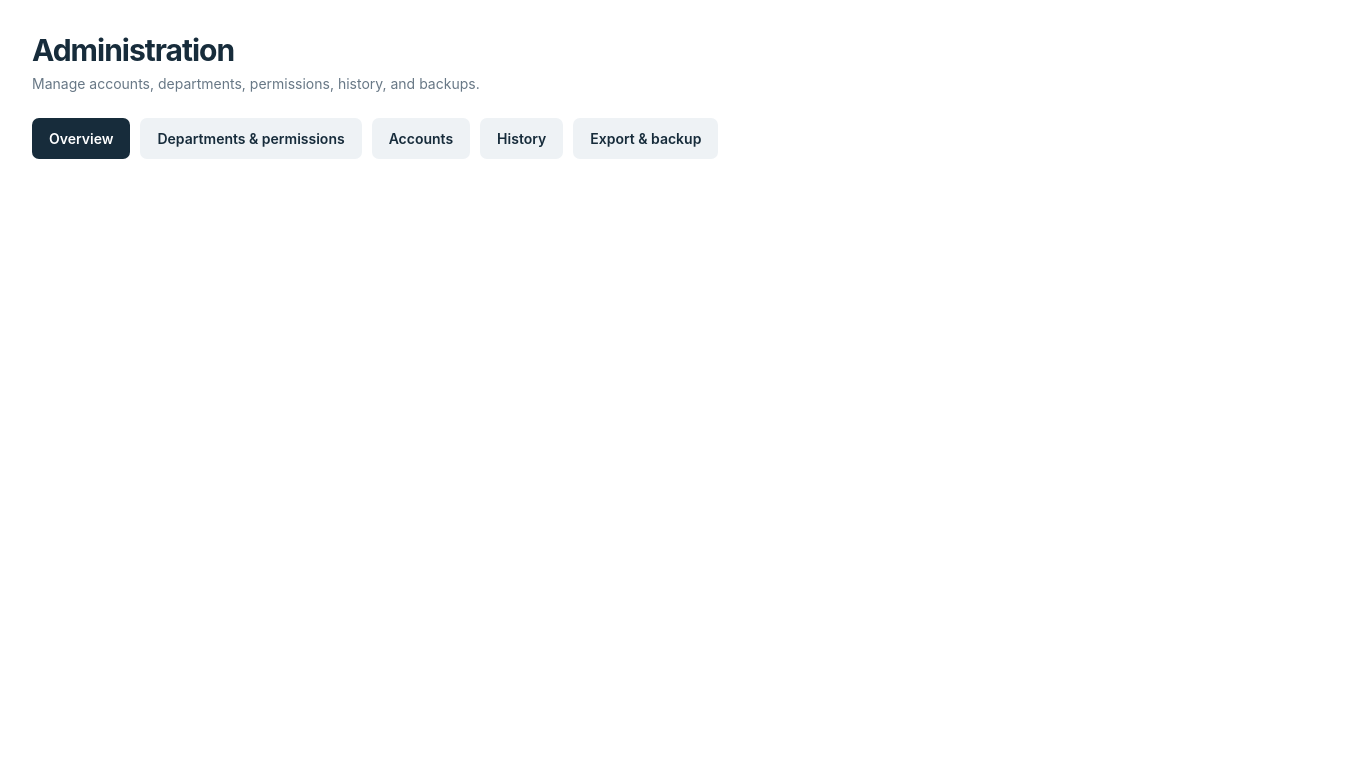
it: admin account form edits roles and disables accounts without requiring a password reset
The width and height of the screenshot is (1366, 768).
Click the tab "Accounts".
click(421, 138)  # box [372,118,470,159]
(page scrolled)
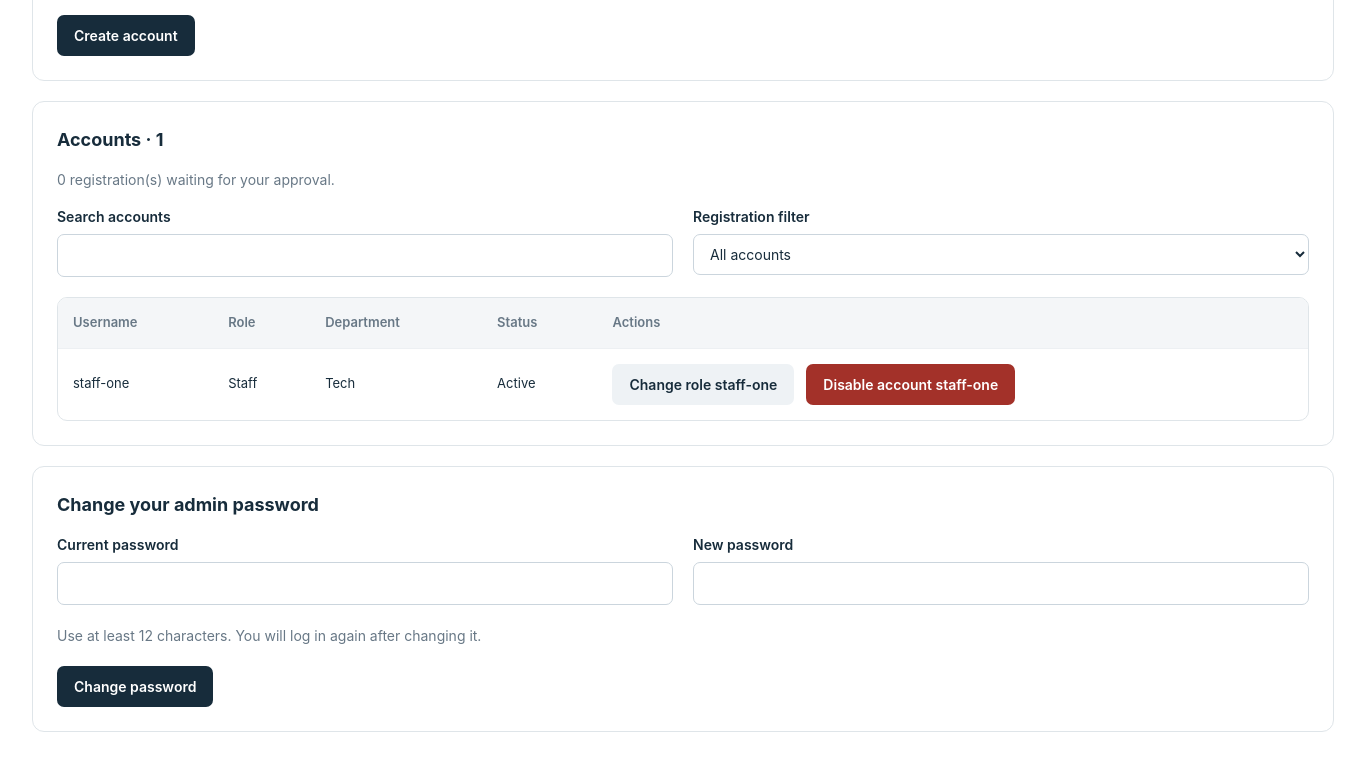
expect the heading "Change your admin password" is shown: met, box [57,494,319,514]
Click the button "Change role staff-one".
click(703, 384)  # box [612,364,794,404]
(page scrolled)
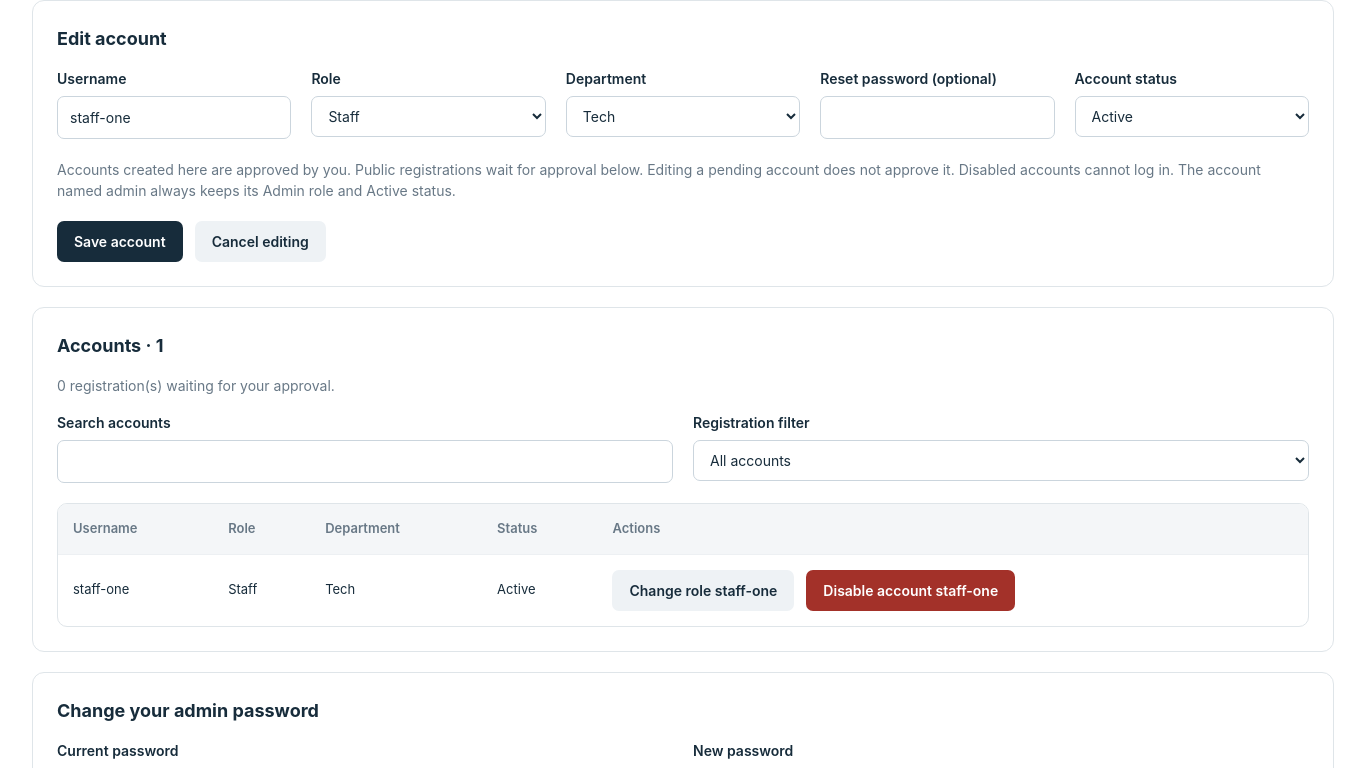
expect the field labelled "Username" has attribute readonly: met, box [57,96,291,139]
Select "Disabled" in the dropdown labelled "Account status" at [1192, 116], box [1075,96,1309,137]
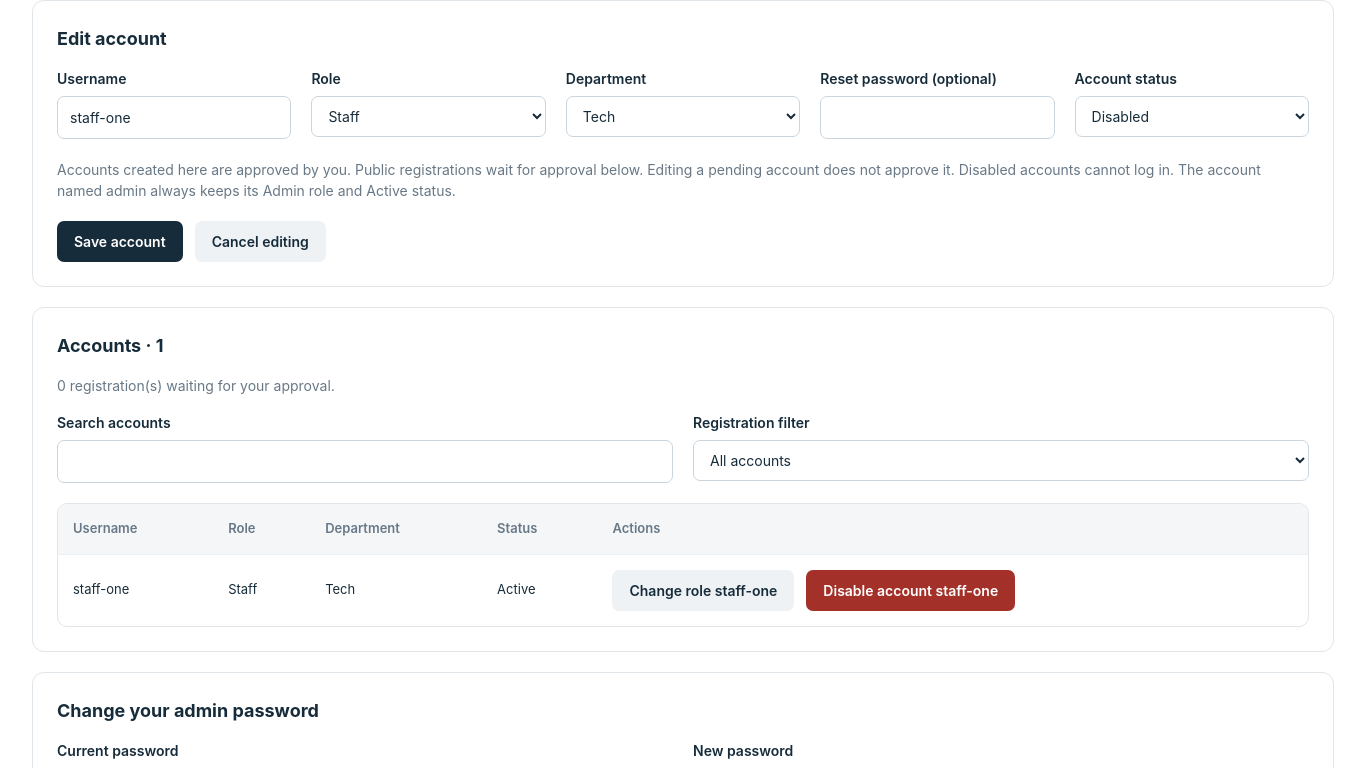
Click the button "Save account".
click(120, 242)  # box [57,221,183,262]
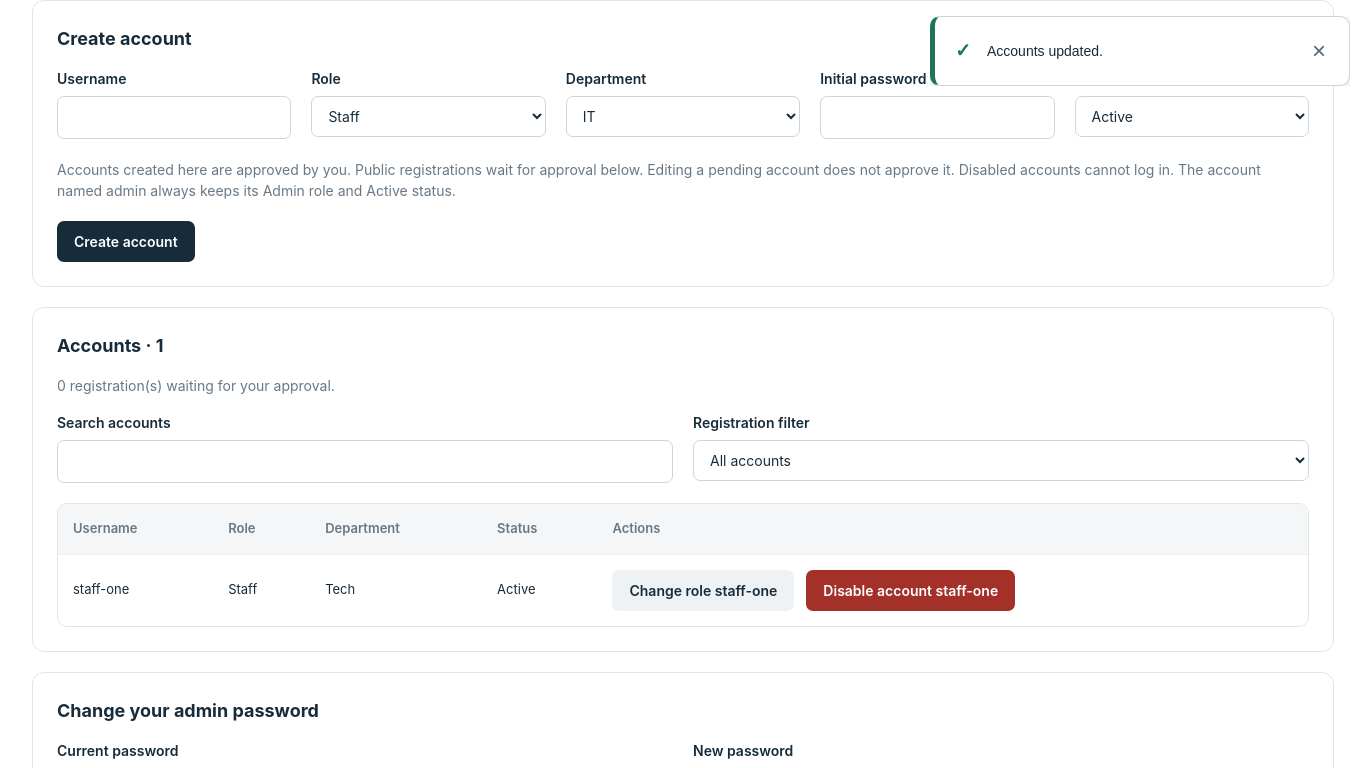
expect the text "Accounts updated." is shown: met, box [987,42,1103,58]
